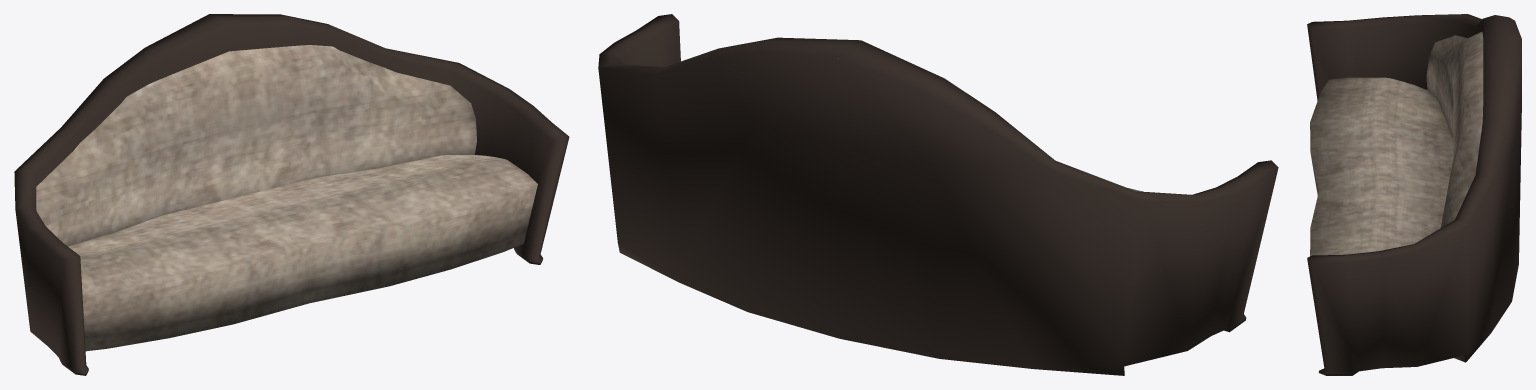
The model's file is sofatest.fbx.
3 views of the same model, side by side, from view 1: azimuth 30°, elevation 25°; view 2: azimuth 150°, elevation 25°; view 3: azimuth 270°, elevation 25° (orthographic). The views are drawn at different scales.
Parts seen in each view (by area): view 1: sofatest; view 2: sofatest; view 3: sofatest.
Boxes of the visible parts, x1,y1,x2,y2 form: sofatest: (14, 14, 569, 375); sofatest: (598, 14, 1278, 375); sofatest: (1307, 14, 1521, 375).
Bounding box in the file's own units: 3.3 × 1.45 × 1.24.
